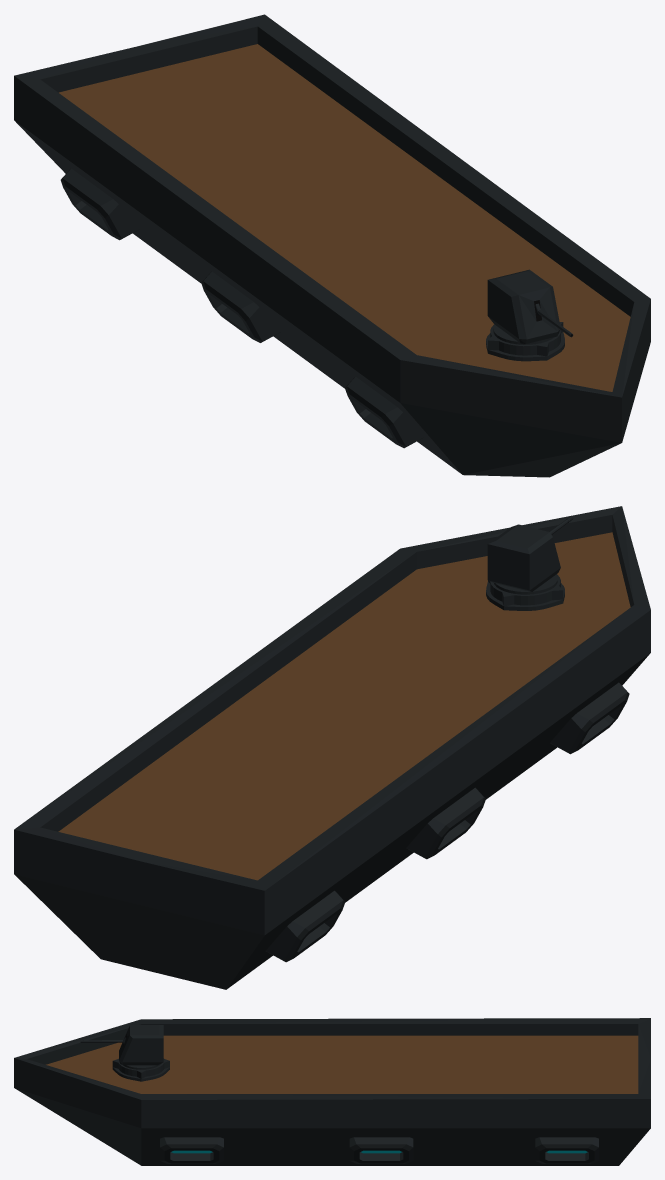
File: StarterHullBlender.obj
3 renders of one model, top to bottom at view 1: azimuth 30°, elevation 25°; view 2: azimuth 150°, elevation 25°; view 3: azimuth 270°, elevation 25°, orthographic. The views are drawn at different scales.
Parts seen in each view (by area): view 1: Корпус, Излучатель.001, Турель, Основание_турели; view 2: Корпус, Излучатель.001, Турель, Основание_турели; view 3: Корпус, Излучатель.001, Турель, Основание_турели.
Part boxes in pixels (bbox=[...]): Корпус: bbox=[14, 14, 650, 477]; Излучатель.001: bbox=[60, 168, 423, 448]; Турель: bbox=[487, 269, 559, 343]; Основание_турели: bbox=[486, 322, 564, 361]; Корпус: bbox=[14, 506, 650, 989]; Излучатель.001: bbox=[266, 682, 629, 962]; Турель: bbox=[487, 524, 560, 591]; Основание_турели: bbox=[486, 574, 564, 610]; Корпус: bbox=[14, 1018, 650, 1165]; Излучатель.001: bbox=[160, 1137, 598, 1163]; Турель: bbox=[119, 1025, 163, 1065]; Основание_турели: bbox=[112, 1058, 169, 1081].
Size of the model in its own units: 6 by 4 by 20.
